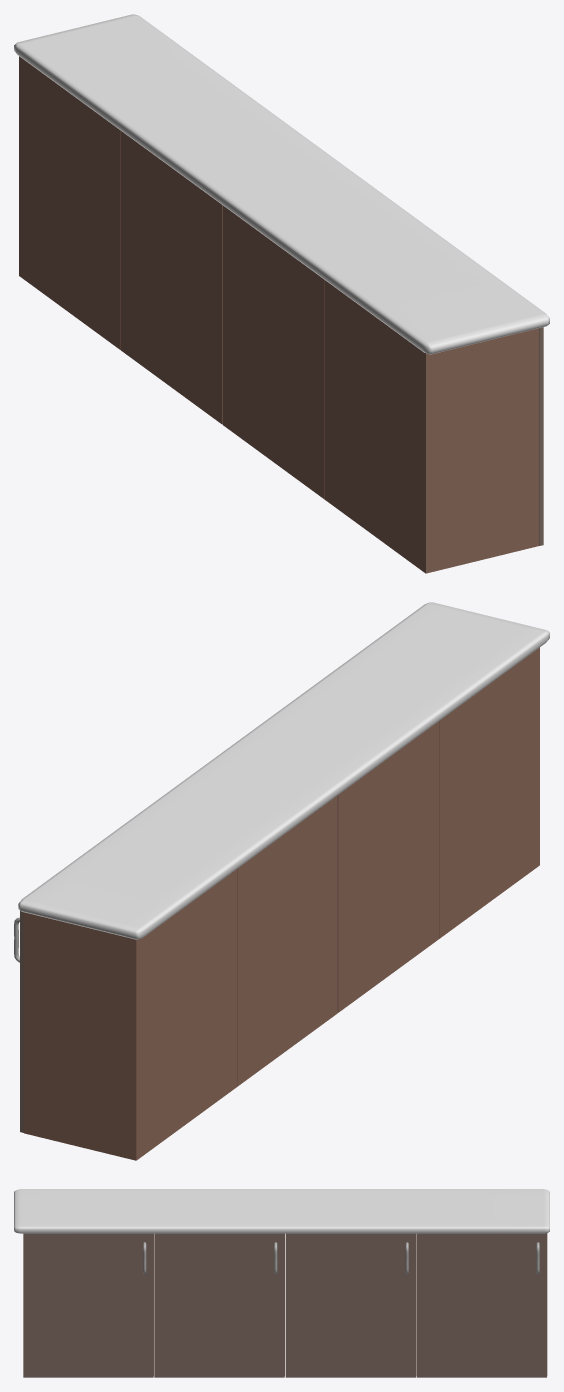
The model's file is Bottom Cabinets brown.fbx.
The picture shows the model from 3 angles, top to bottom: view 1: azimuth 30°, elevation 25°; view 2: azimuth 150°, elevation 25°; view 3: azimuth 270°, elevation 25°; orthographic projection. The views are drawn at different scales.
Visible parts, largest first — view 1: pCube93 (×4), pCube101, pCube97; view 2: pCube93 (×4), pCube101, pCube97; view 3: pCube97 (×4), pCube101.
Boxes of the visible parts, x1=… form: pCube93 (×4): x1=19, y1=56, x2=538, y2=573; pCube101: x1=14, y1=14, x2=549, y2=354; pCube97: x1=539, y1=327, x2=543, y2=545; pCube93 (×4): x1=24, y1=647, x2=539, y2=1160; pCube101: x1=18, y1=602, x2=549, y2=939; pCube97: x1=20, y1=910, x2=23, y2=1132; pCube97 (×4): x1=23, y1=1233, x2=546, y2=1377; pCube101: x1=14, y1=1189, x2=549, y2=1233.
Bounding box in the file's own units: 1.2 × 1.97 × 6.37.
